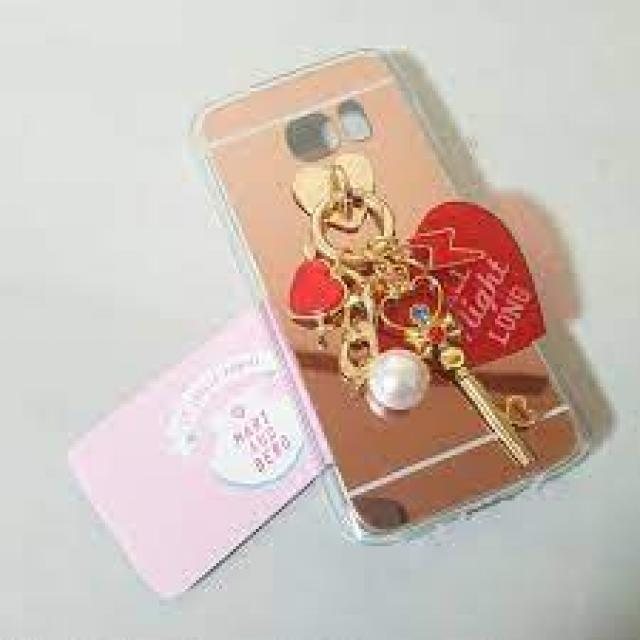Phone: (186, 41, 593, 546)
